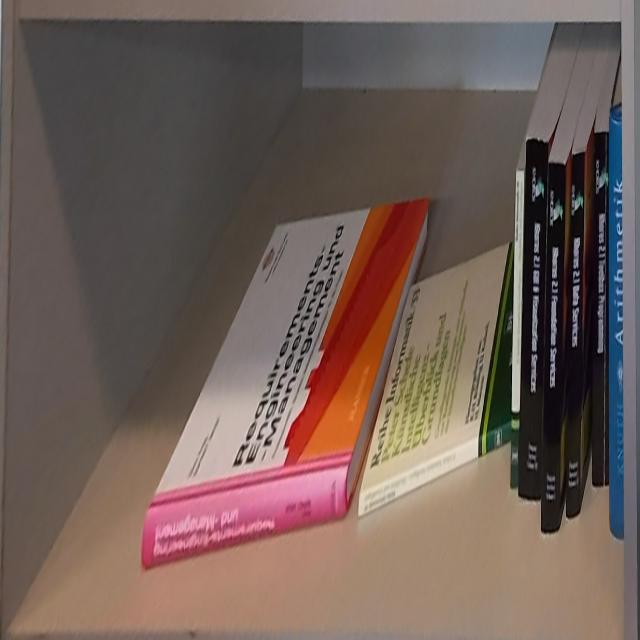Book Spine: (142, 469, 350, 574), (357, 425, 510, 519), (517, 139, 549, 502), (542, 165, 564, 531), (566, 149, 586, 521), (591, 131, 609, 486), (610, 112, 624, 542), (510, 168, 526, 487)
